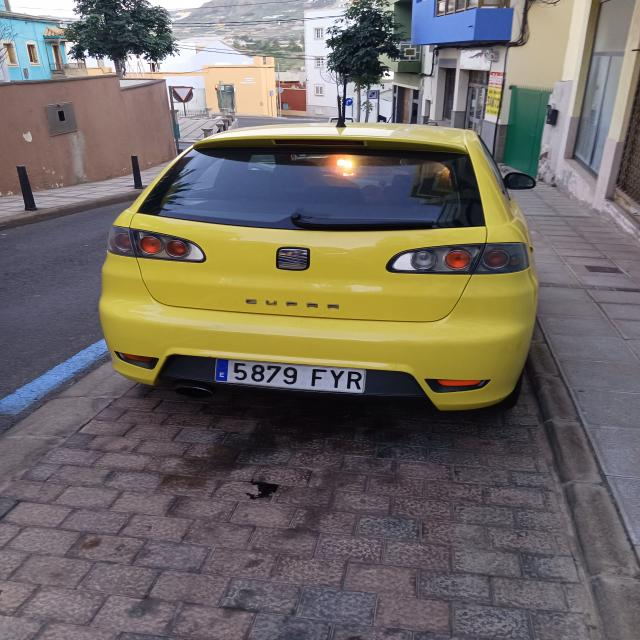football: (213, 357, 367, 394)
